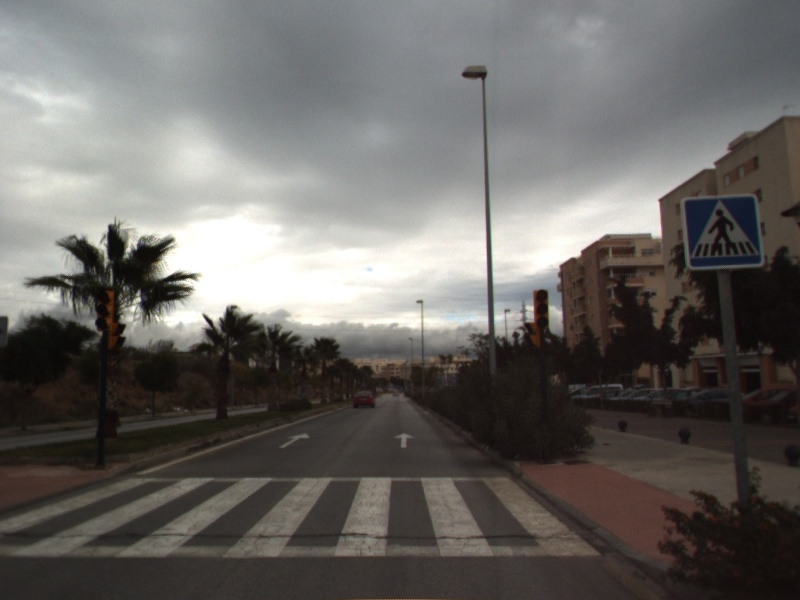STRAIGHT: (277, 431, 312, 450), (393, 431, 417, 449)
